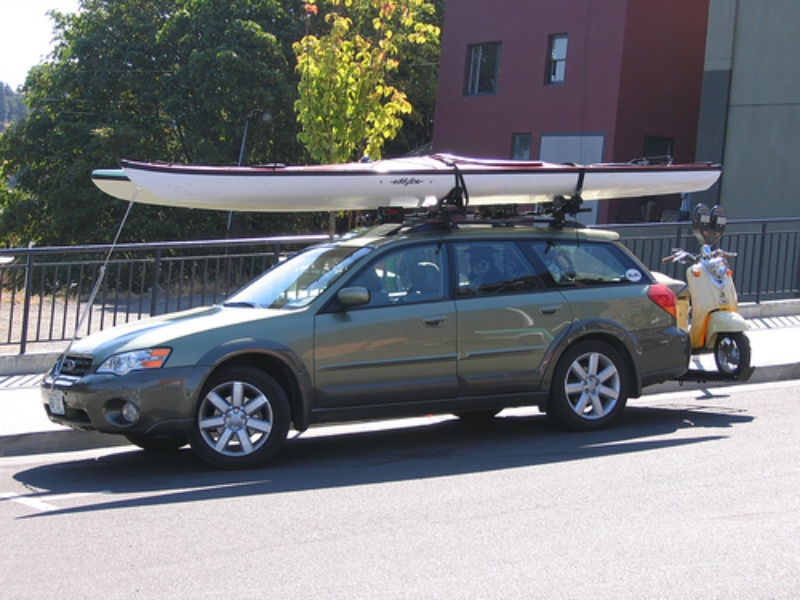car: (43, 219, 690, 463)
